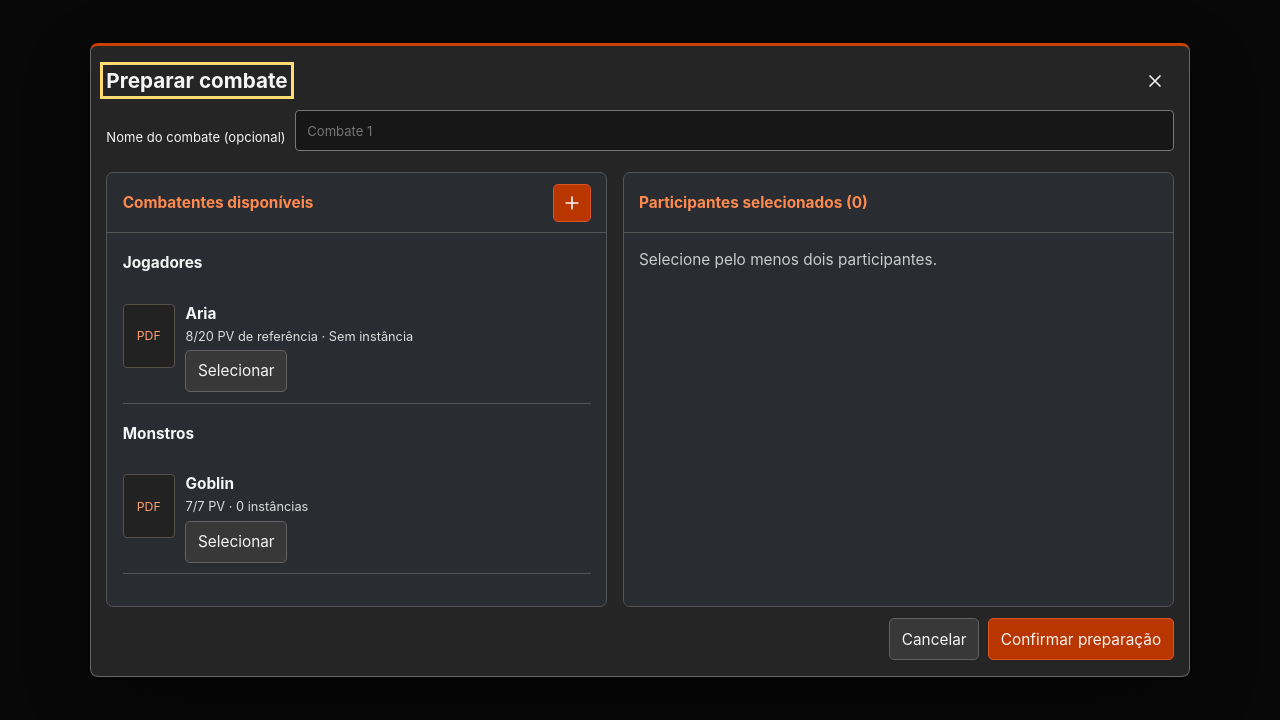
Test: preparação local de combate › ficha de jogador antiga sem instância permite criar ocorrência somente no rascunho
Click the button with aria-label "Selecionar jogador Aria" at (236, 371), box [186,350,287,392]
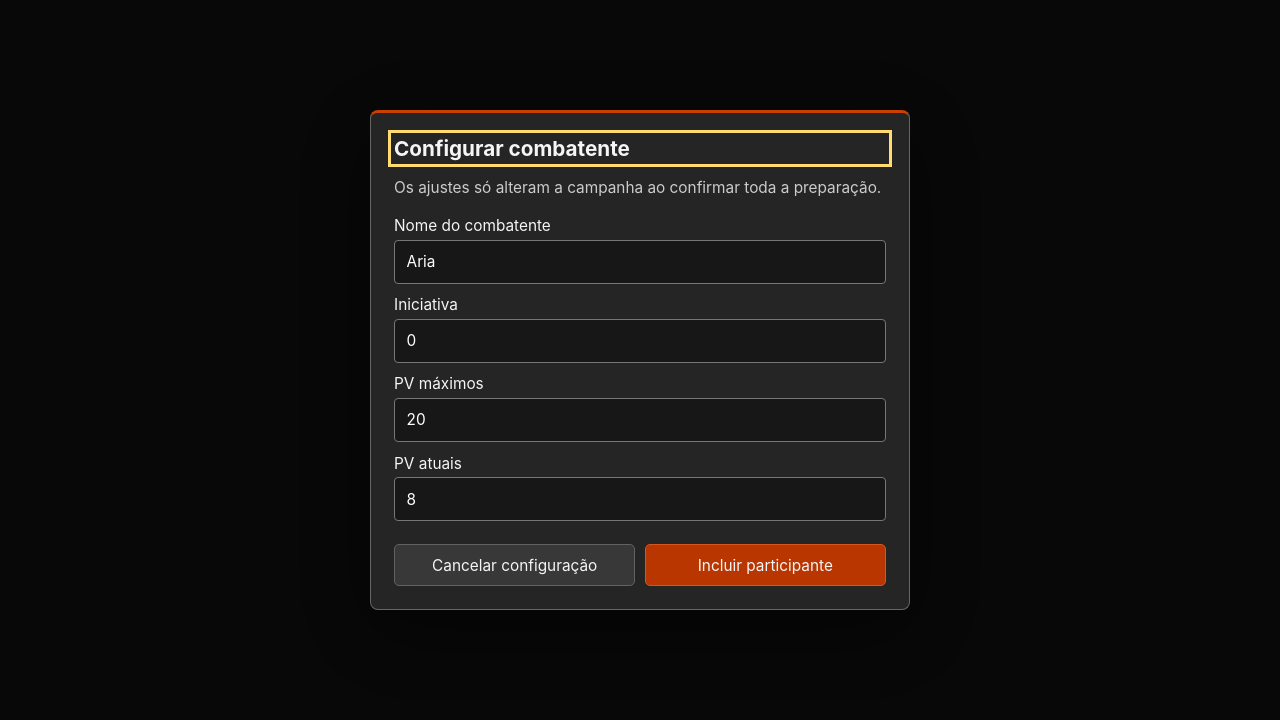
Result: the field labelled "Nome do combatente" holds "Aria" at [394,240,886,284]
Result: the number field labelled "PV atuais" holds "8" at [394,477,886,521]
Click the button "Incluir participante" at (765, 565), box [645,544,886,586]
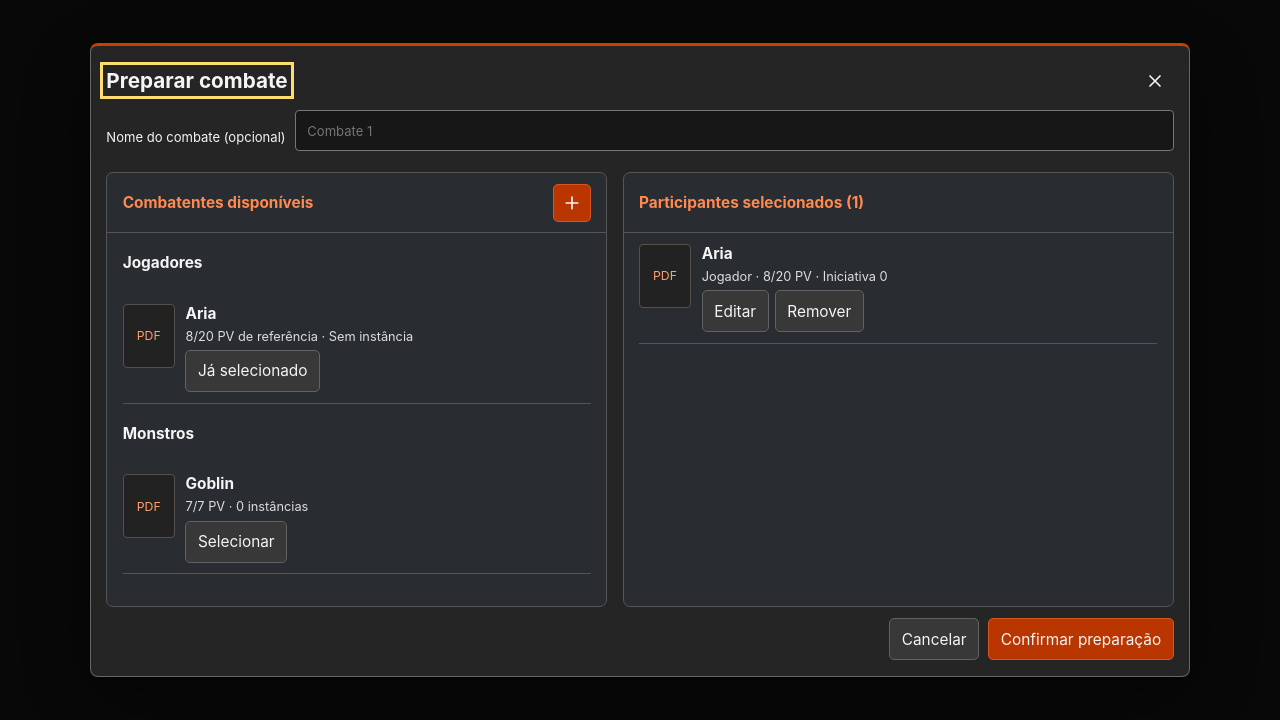
Result: the button with aria-label "Selecionar jogador Aria" is disabled at [186,350,320,392]
Result: the button with aria-label "Editar participante Aria" is shown at [702,290,769,332]
